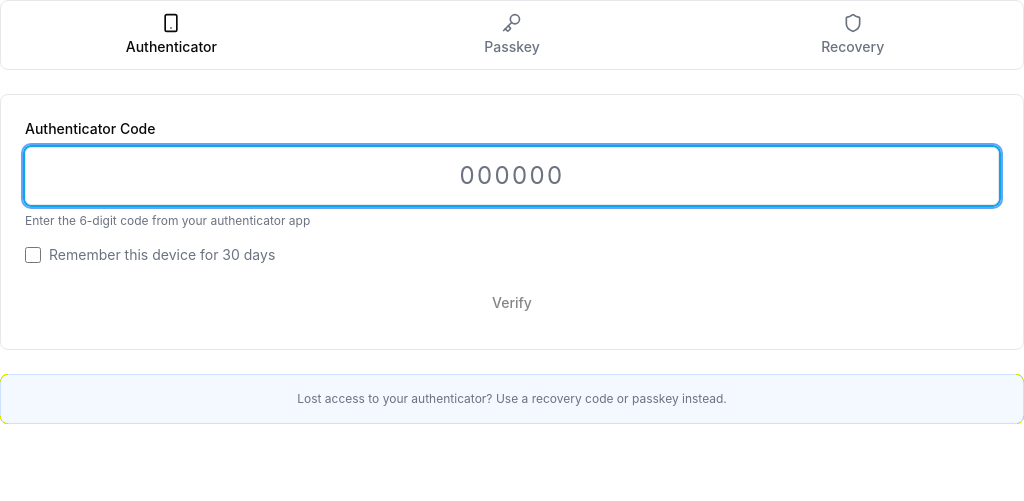
it: TwoFactorVerification › TOTP Verification › should handle network errors gracefully
This screenshot has width=1024, height=501.
In the field with placeholder "000000": (512, 176) [25,147,999,205], type "123456"
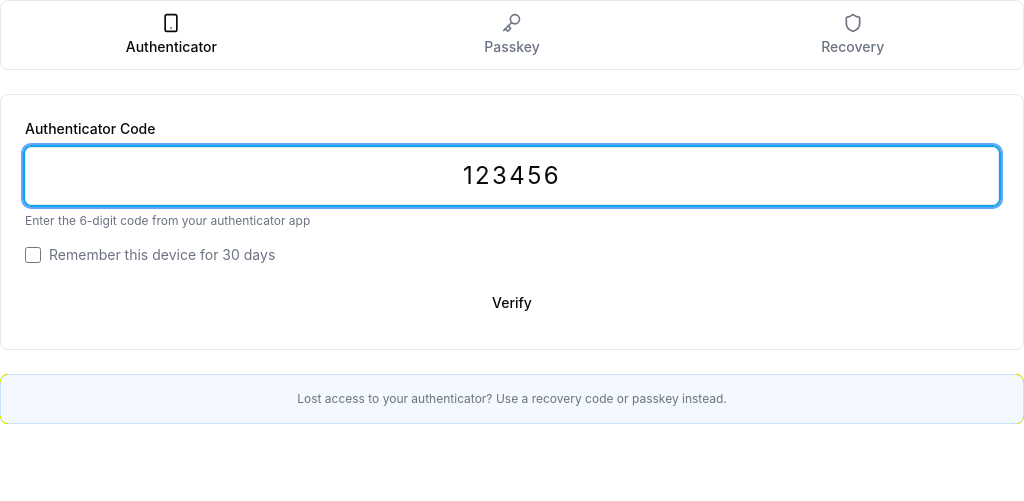
Click the button "Verify": (512, 303) [25,281,999,325]
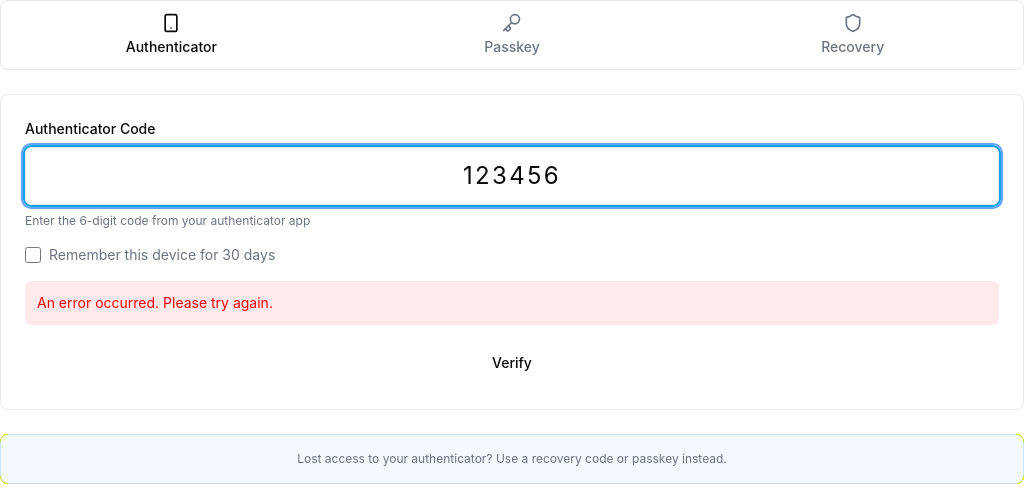
Expected: the text "An error occurred. Please try again." is shown, [25,281,999,325]
